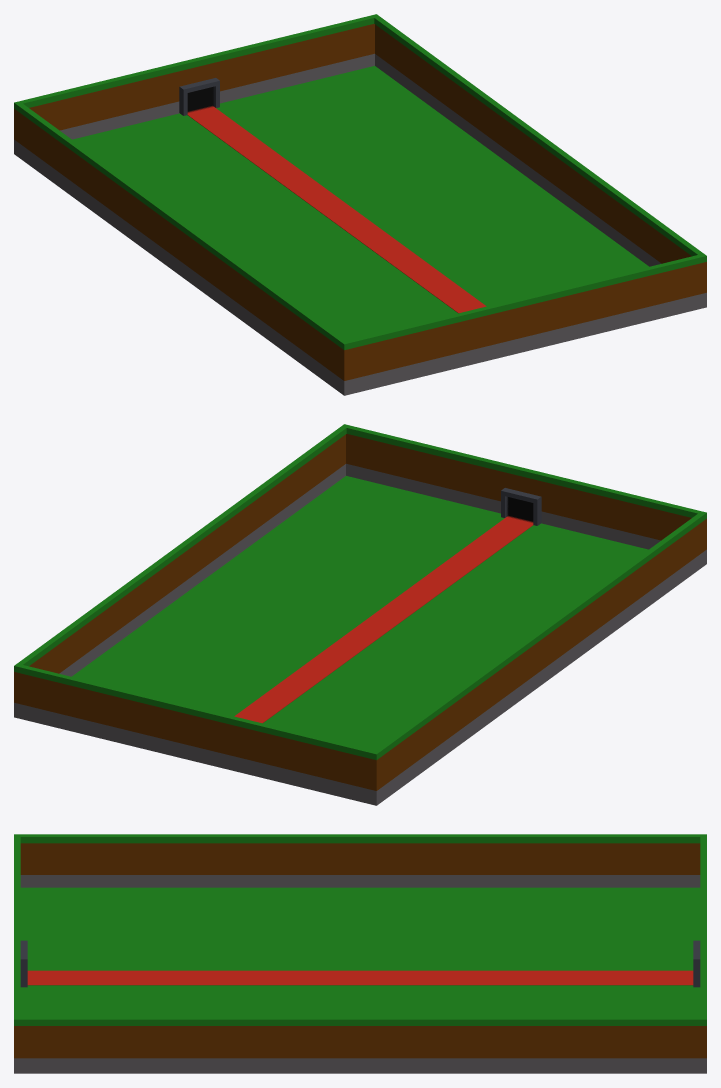
The model's file is map.glb.
The picture shows the model from 3 angles, top to bottom: view 1: azimuth 30°, elevation 25°; view 2: azimuth 150°, elevation 25°; view 3: azimuth 270°, elevation 25°; orthographic projection. The views are drawn at different scales.
Visible parts, largest first — view 1: map; view 2: map; view 3: map.
Part boxes in pixels (left/top/right/bottom): map: left=14, top=14, right=706, bottom=395; map: left=14, top=424, right=706, bottom=805; map: left=14, top=834, right=706, bottom=1073.
Bounding box in the file's own units: 258 × 35 × 407.
